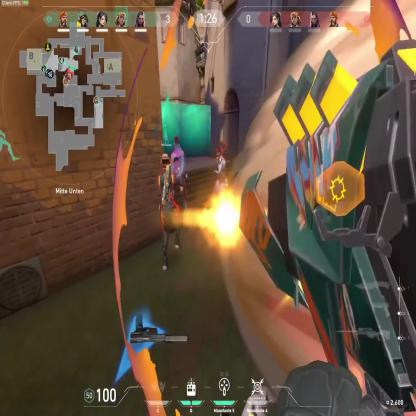enemy: (155, 152, 182, 274), (169, 136, 188, 225), (210, 142, 231, 218)
enemy_head: (161, 152, 170, 171), (216, 147, 223, 160), (174, 136, 180, 148)
